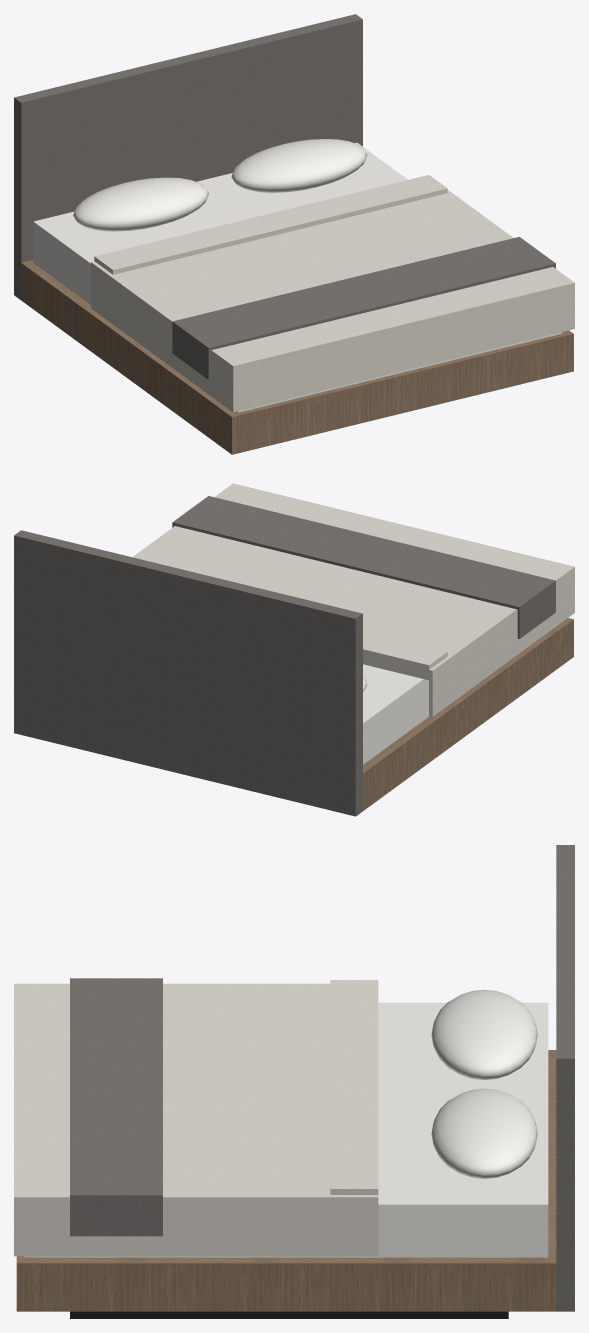
Rendered from bed.glb.
3 renders of one model, top to bottom at view 1: azimuth 30°, elevation 25°; view 2: azimuth 150°, elevation 25°; view 3: azimuth 270°, elevation 25°, orthographic. The views are drawn at different scales.
Visible parts, largest first — view 1: bed; view 2: bed; view 3: bed.
Part boxes in pixels (box(x1,y1,x2,y2)): bed: box(14, 14, 574, 454); bed: box(14, 483, 574, 816); bed: box(14, 845, 574, 1318).
Bounding box in the file's own units: 1.93 × 1.15 × 2.11.
Materials: 5 (3 with a texture image).
